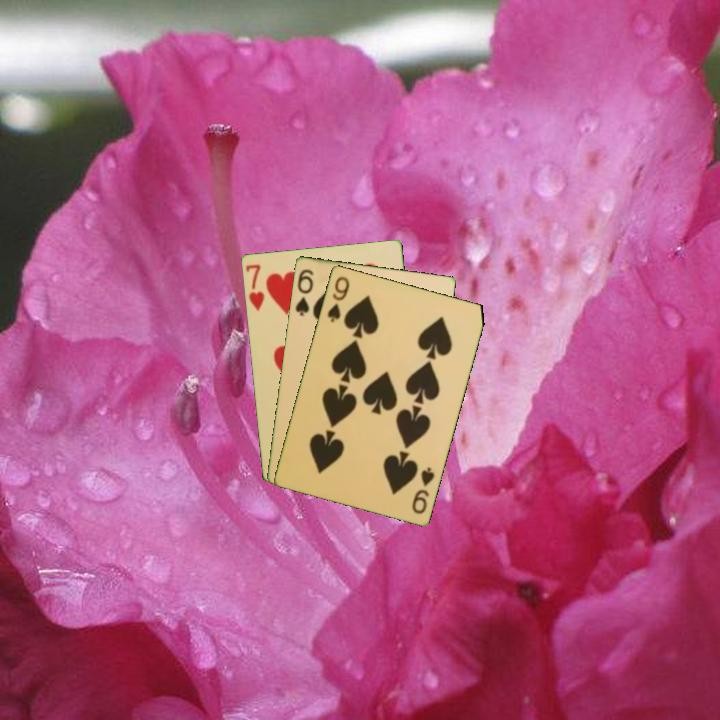6s: (291, 265, 316, 319)
7h: (242, 261, 267, 314)
9s: (323, 272, 352, 325), (408, 463, 437, 516)
